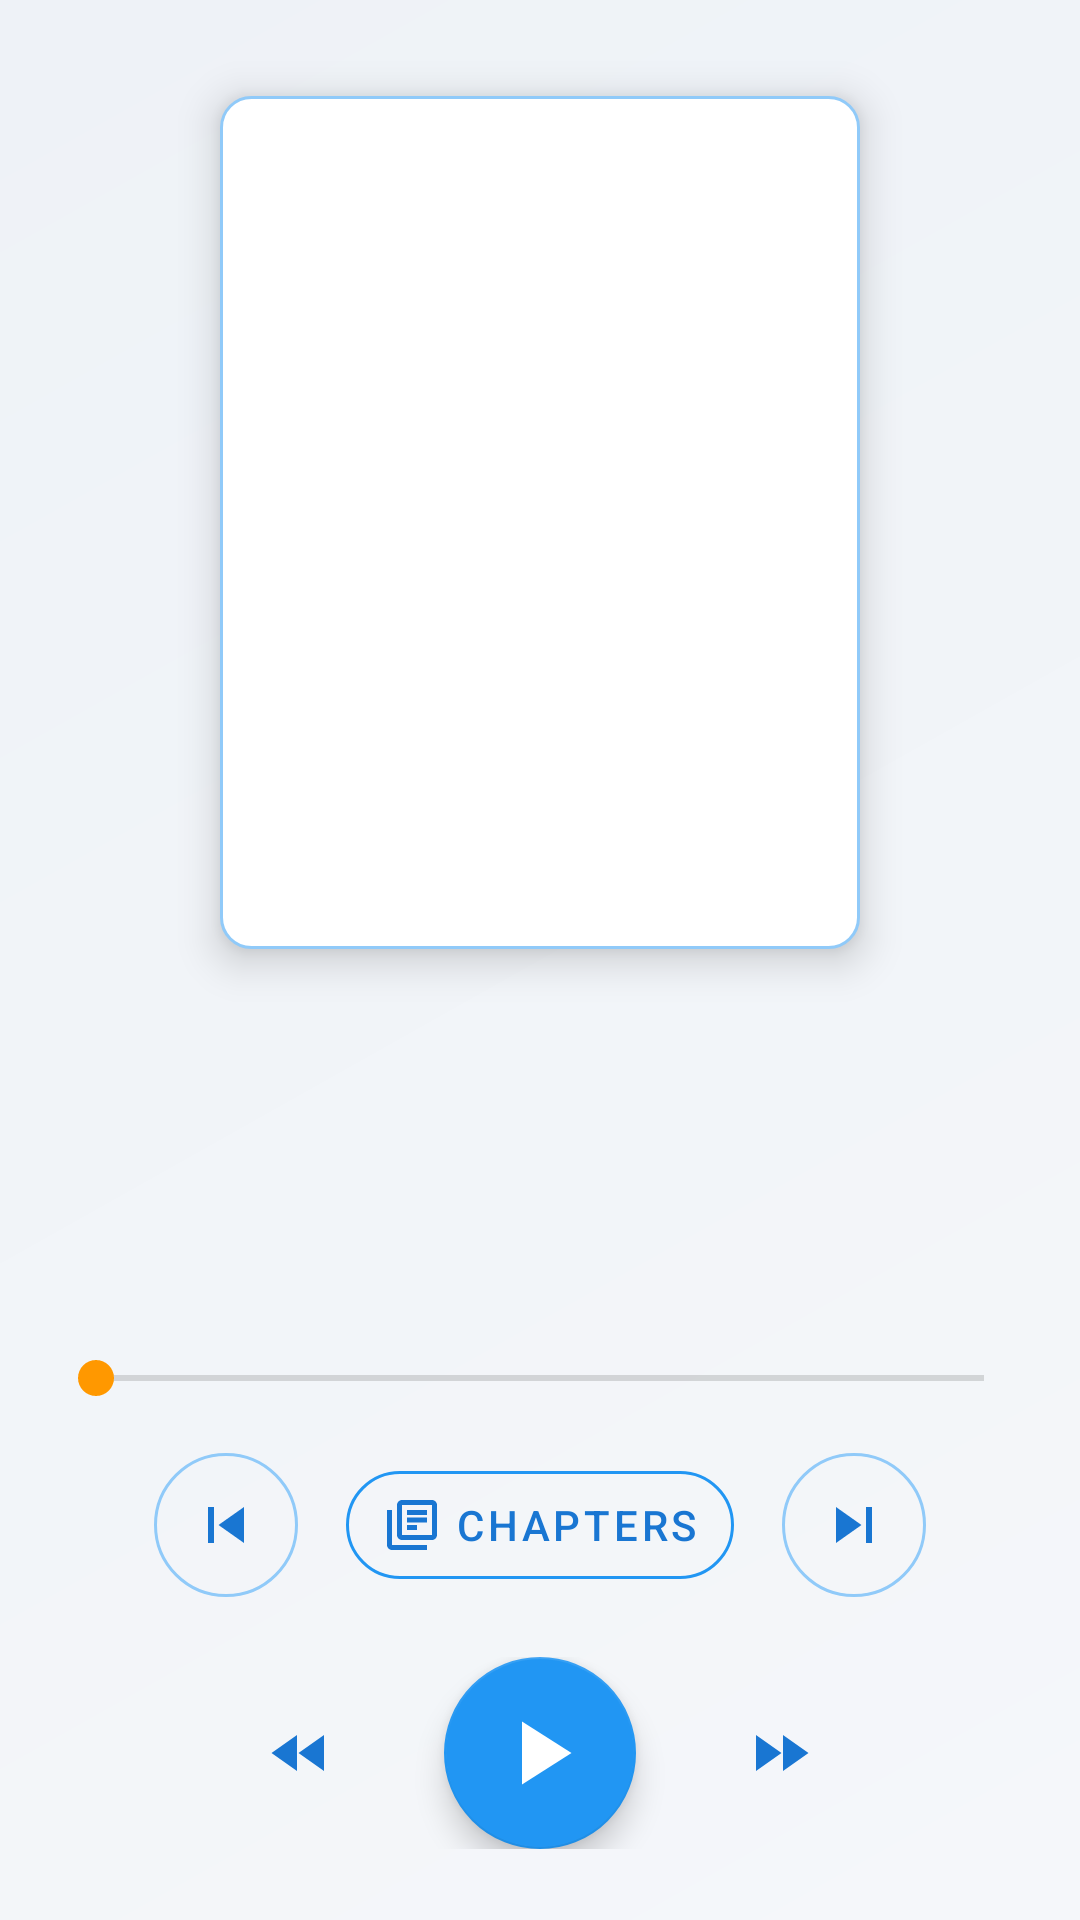

Named icons in this screenshot (1080px×1920px) and their centers, (x=x, y=y):
Forward 30 seconds: (x=782, y=1753)
Next Chapter: (x=854, y=1525)
Play/Pause: (x=540, y=1753)
Previous Chapter: (x=226, y=1525)
Rewind 10 seconds: (x=298, y=1753)
